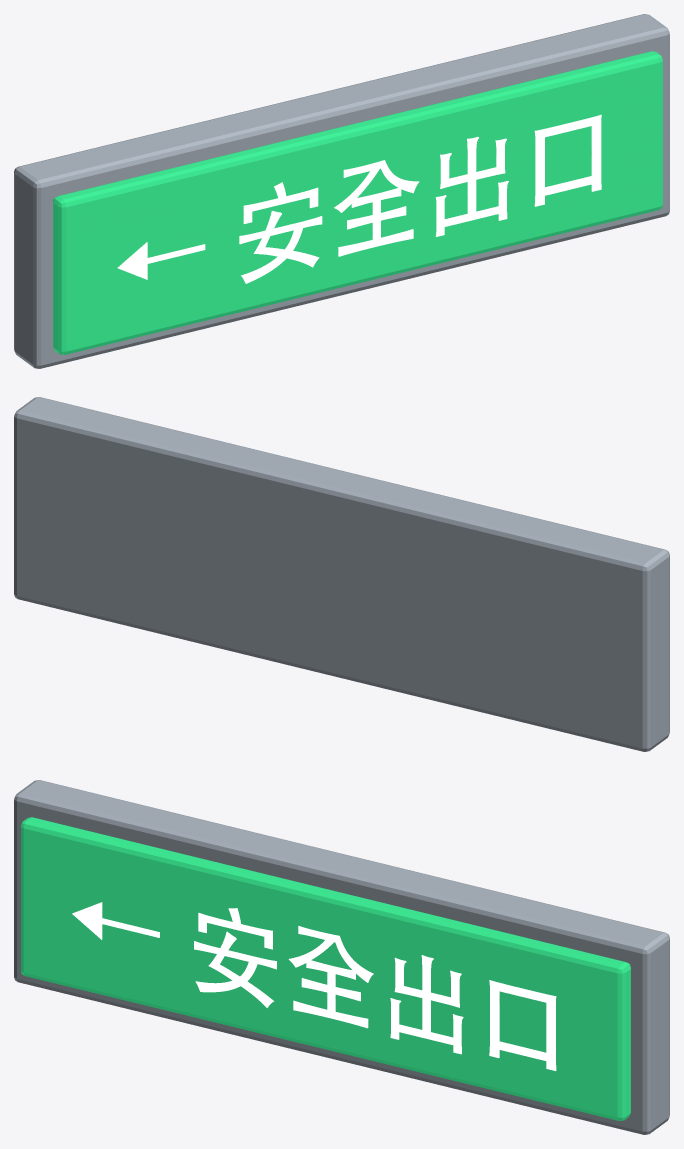
File: escape-sign-left.glb
The picture shows the model from 3 angles, top to bottom: view 1: azimuth 30°, elevation 25°; view 2: azimuth 150°, elevation 25°; view 3: azimuth 330°, elevation 25°; orthographic projection.
Visible parts, largest first — view 1: Green face, Exit housing, Exit lettering; view 2: Exit housing; view 3: Green face, Exit housing, Exit lettering.
Part boxes in pixels (x1,y1,x2,y2): Green face: (53,51,662,354); Exit housing: (14,14,669,368); Exit lettering: (117,114,601,283); Exit housing: (14,397,669,751); Green face: (21,817,630,1120); Exit housing: (14,780,669,1134); Exit lettering: (72,902,556,1070).
Size of the model in its own units: 1.2 by 0.34 by 0.115.
